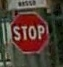stop: (9, 11, 49, 53)
